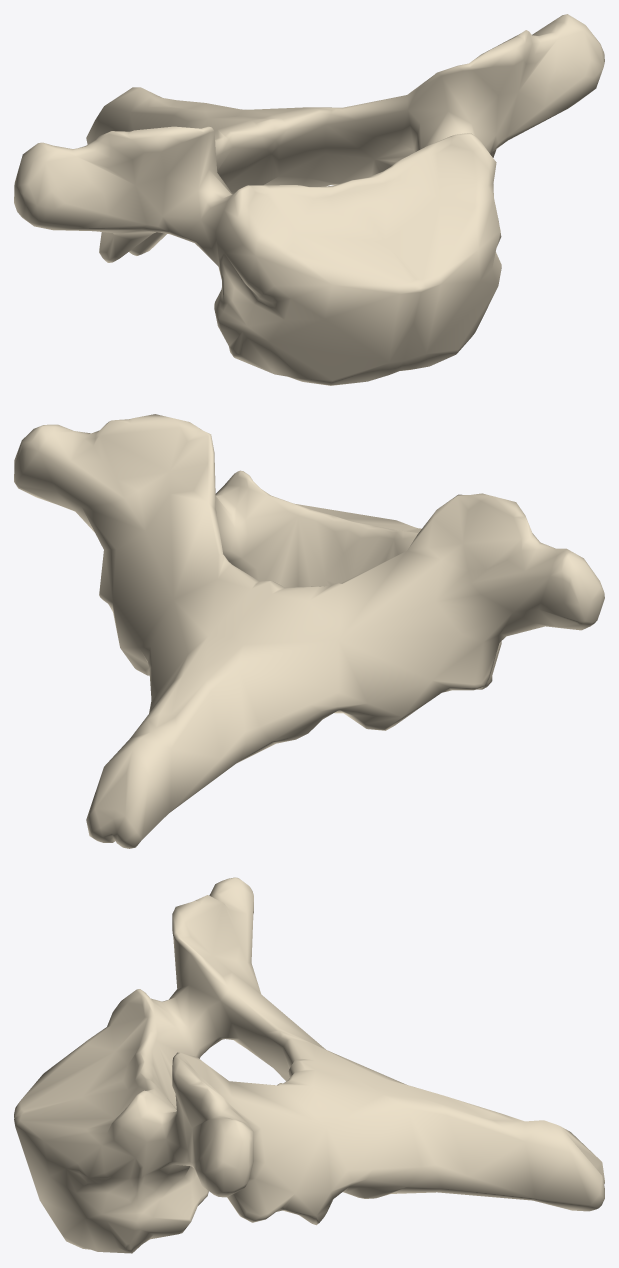
The model's file is vertebra-t1.glb.
3 views of the same model, one above another, from view 1: azimuth 30°, elevation 25°; view 2: azimuth 150°, elevation 25°; view 3: azimuth 270°, elevation 25° (orthographic). The views are drawn at different scales.
Parts seen in each view (by area): view 1: Vertebra T1; view 2: Vertebra T1; view 3: Vertebra T1.
Part boxes in pixels (<box>): Vertebra T1: <box>14,14,604,385</box>; Vertebra T1: <box>14,414,604,848</box>; Vertebra T1: <box>14,877,604,1253</box>.
Size of the model in its own units: 0.0777 by 0.0308 by 0.0722.
